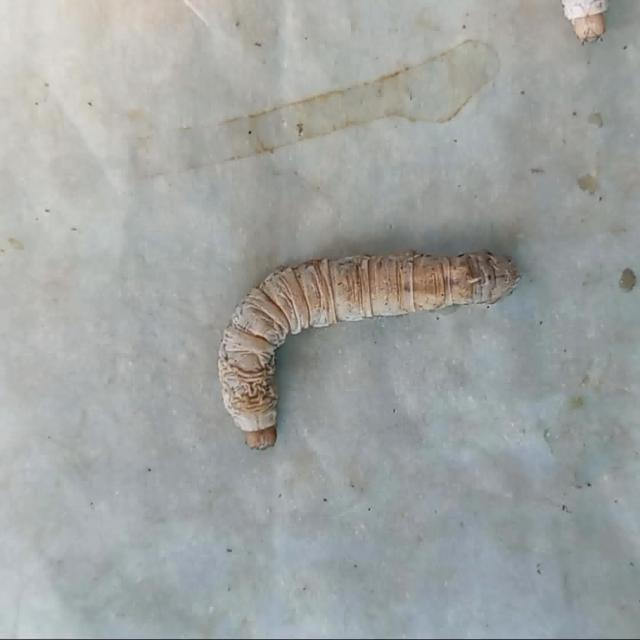Grasserie: (210, 240, 536, 470)
